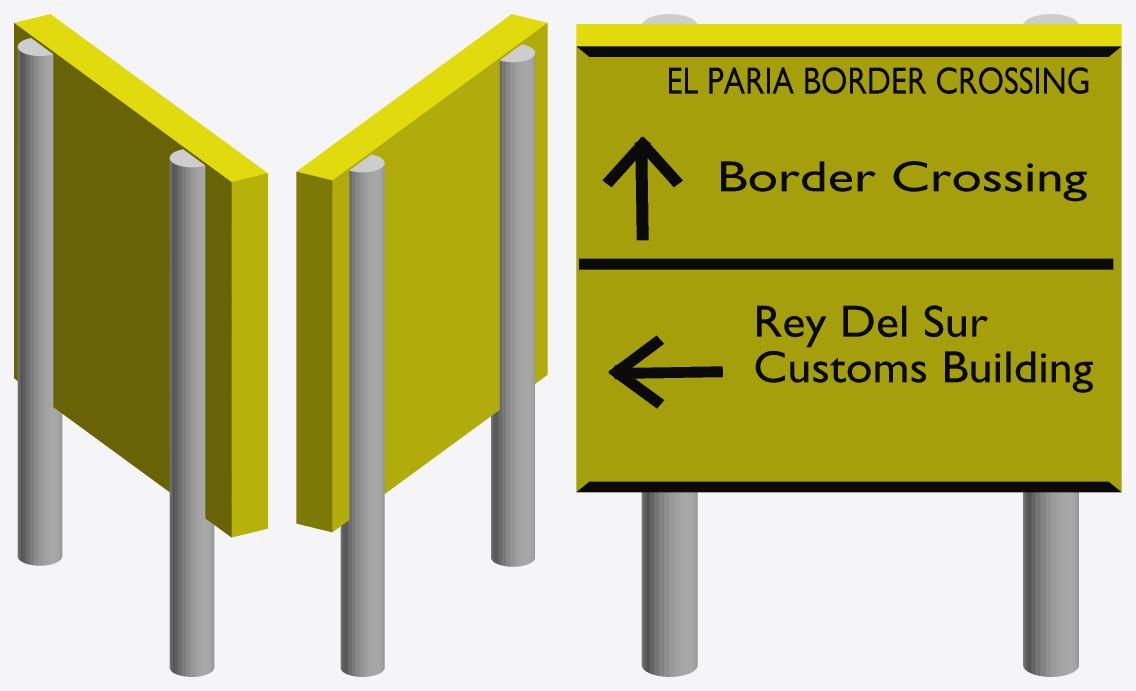
The model's file is EPBC_sign_1.fbx.
3 views of the same model, side by side, from view 1: azimuth 30°, elevation 25°; view 2: azimuth 150°, elevation 25°; view 3: azimuth 270°, elevation 25° (orthographic). The views are drawn at different scales.
Parts seen in each view (by area): view 1: Cube.001, Cylinder, Cylinder.001; view 2: Cube.001, Cylinder.001, Cylinder; view 3: Cube.001, Cylinder, Cylinder.001, Plane.012, Text.003, Text.004, Text.001, Plane.004, Plane.011.
Part boxes in pixels (x1,y1,x2,y2): Cube.001: [14, 14, 267, 537]; Cylinder: [169, 149, 214, 676]; Cylinder.001: [17, 38, 62, 565]; Cube.001: [296, 14, 547, 532]; Cylinder.001: [340, 154, 384, 676]; Cylinder: [491, 44, 534, 566]; Cube.001: [576, 24, 1121, 492]; Cylinder: [641, 14, 697, 676]; Cylinder.001: [1023, 14, 1078, 676]; Plane.012: [579, 258, 1113, 269]; Text.003: [755, 305, 1092, 392]; Text.004: [669, 67, 1088, 93]; Text.001: [721, 161, 1086, 201]; Plane.004: [635, 152, 648, 240]; Plane.011: [625, 366, 722, 378].
Bounding box in the file's own units: 6.12 × 50.59 × 38.93.
